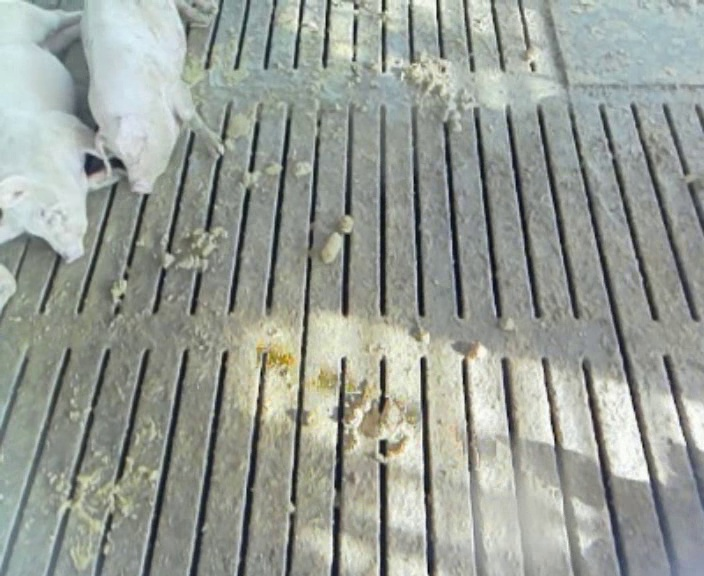pig: (81, 1, 222, 191)
